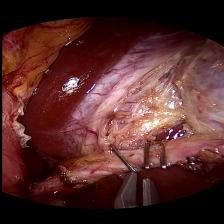Clipper: (110, 172, 159, 212)
